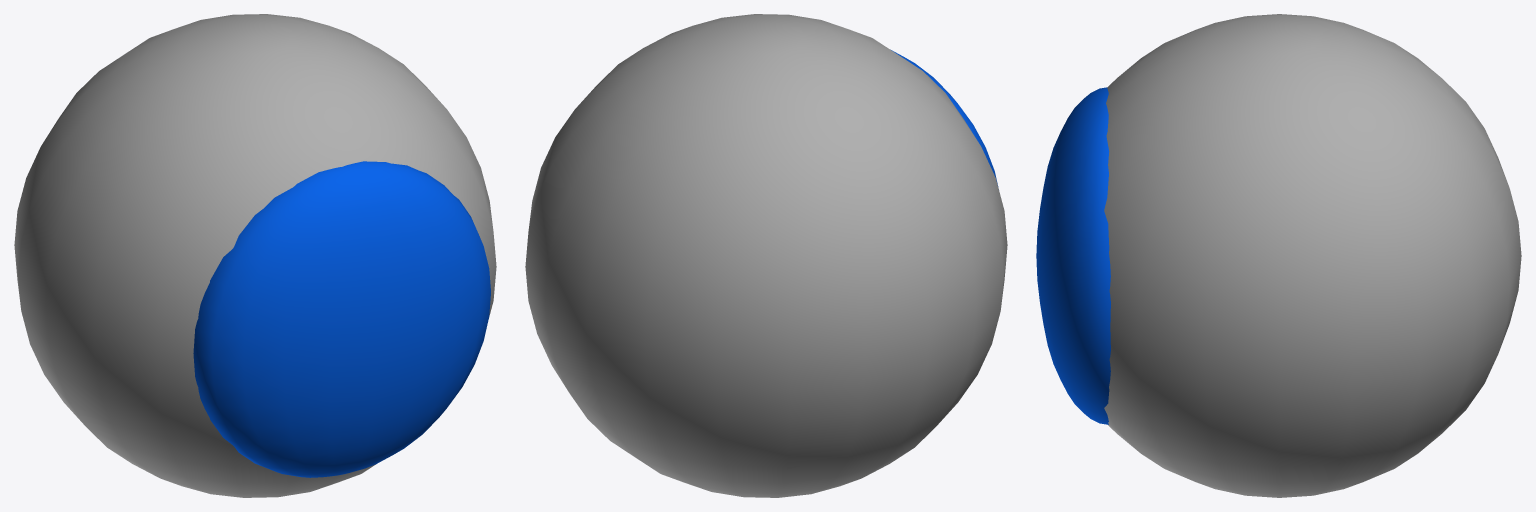
Rendered from ghost_eye 1.fbx.
3 renders of one model, left to right at view 1: azimuth 30°, elevation 25°; view 2: azimuth 150°, elevation 25°; view 3: azimuth 270°, elevation 25°, orthographic.
Visible parts, largest first — view 1: pSphere5; view 2: pSphere5; view 3: pSphere5.
Part boxes in pixels (x1,y1,x2,y2): pSphere5: (14,14,496,497); pSphere5: (525,14,1007,497); pSphere5: (1036,14,1521,497).
Bounding box in the file's own units: 0.9052 × 0.9052 × 0.9069.
